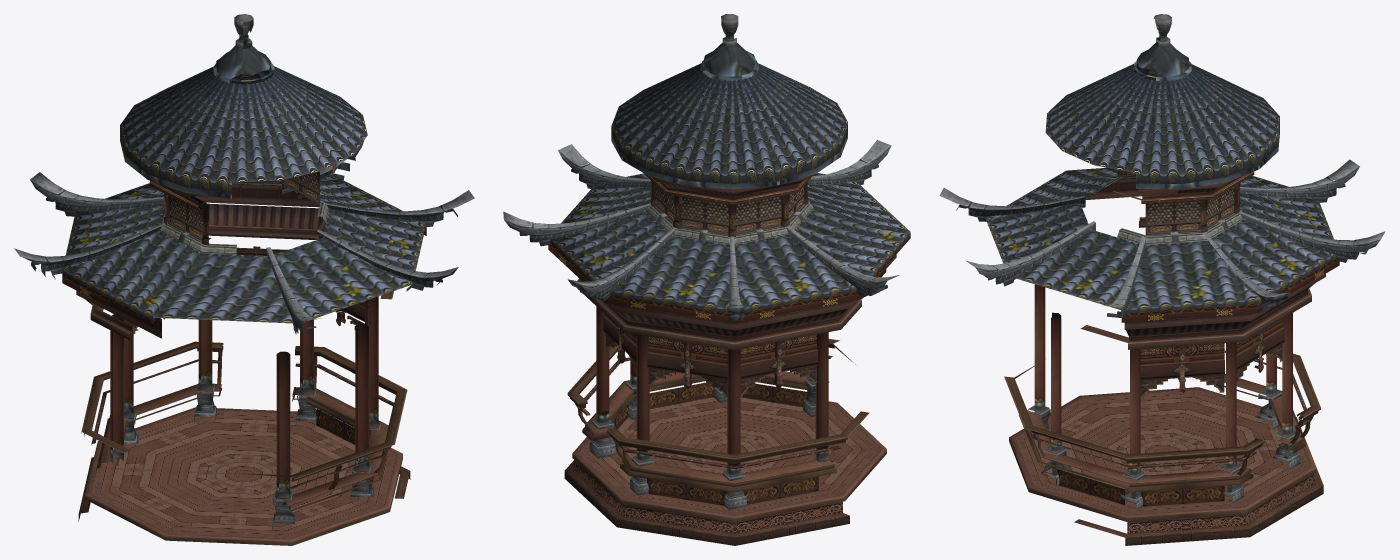
Rendered from S2_Build_XSC021a_H1.FBX.
The picture shows the model from 3 angles, left to right: view 1: azimuth 30°, elevation 25°; view 2: azimuth 150°, elevation 25°; view 3: azimuth 270°, elevation 25°; orthographic projection. The views are drawn at different scales.
Parts seen in each view (by area): view 1: S2_Build_XSC021a_H1; view 2: S2_Build_XSC021a_H1; view 3: S2_Build_XSC021a_H1.
Boxes of the visible parts, x1=… form: S2_Build_XSC021a_H1: x1=14, y1=14, x2=474, y2=545; S2_Build_XSC021a_H1: x1=503, y1=14, x2=910, y2=545; S2_Build_XSC021a_H1: x1=939, y1=14, x2=1385, y2=545.
Size of the model in its own units: 3994 by 4584 by 4001.
3 materials, 3 textured.
